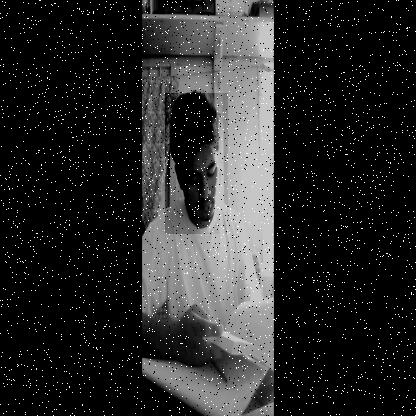Distracted: (165, 93, 228, 234)
